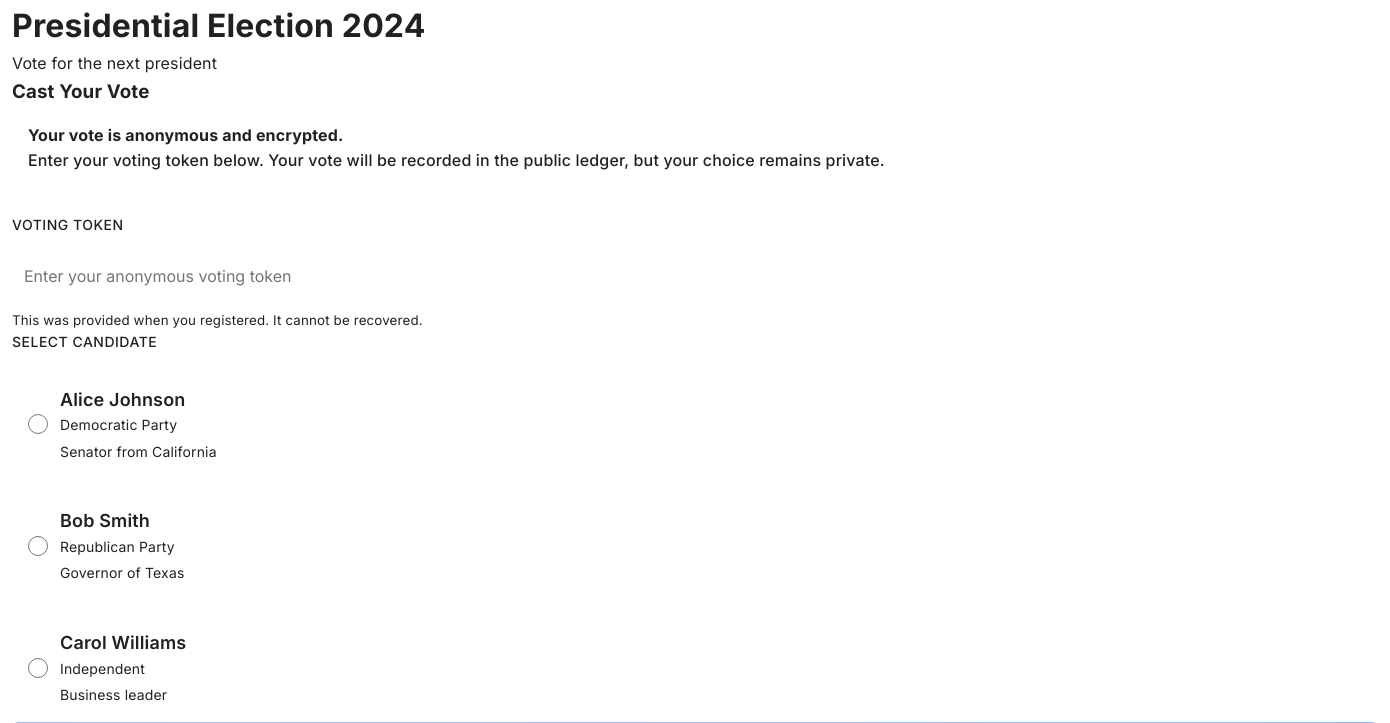
Test case: Vote Page › Candidate Selection › allows selecting a candidate
Click the text "Alice Johnson". click: [123, 399]
box: [60,389,185,410]
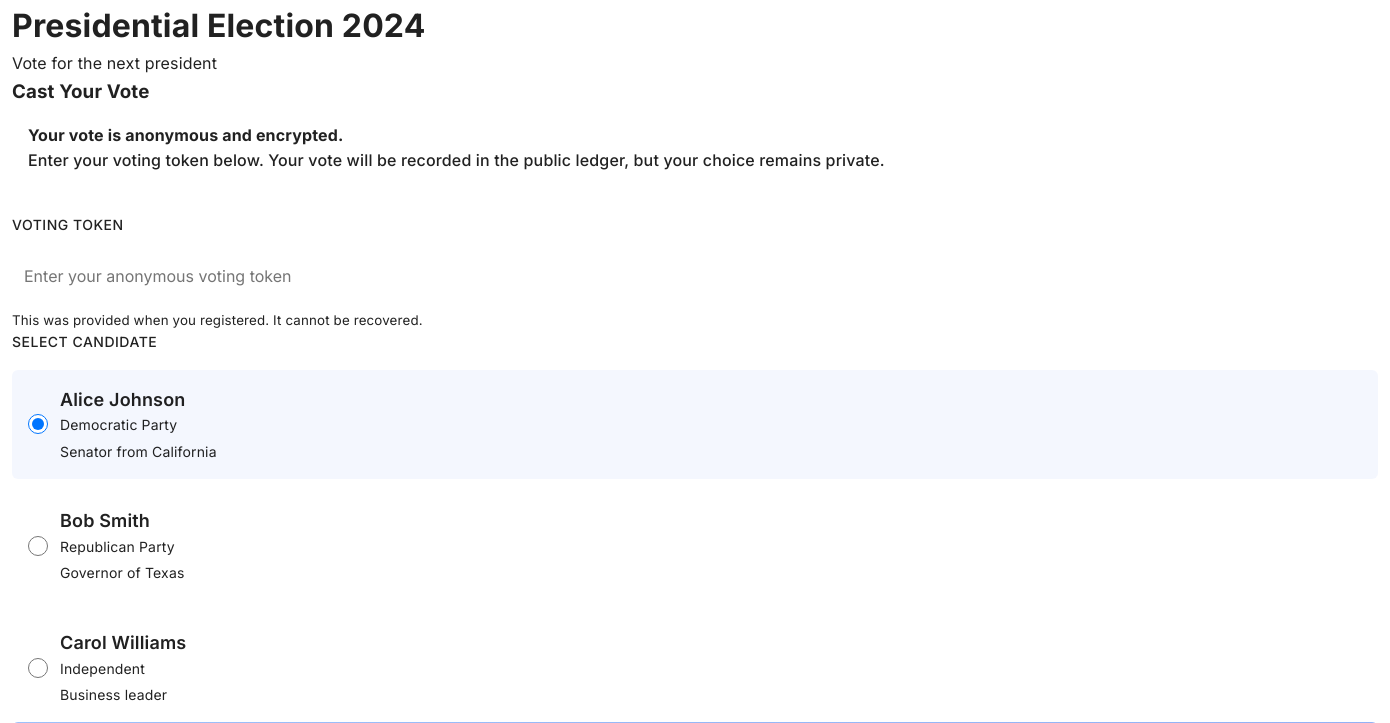
Result: the radio button next to "Democratic Party" is checked at [28,414,48,434]
